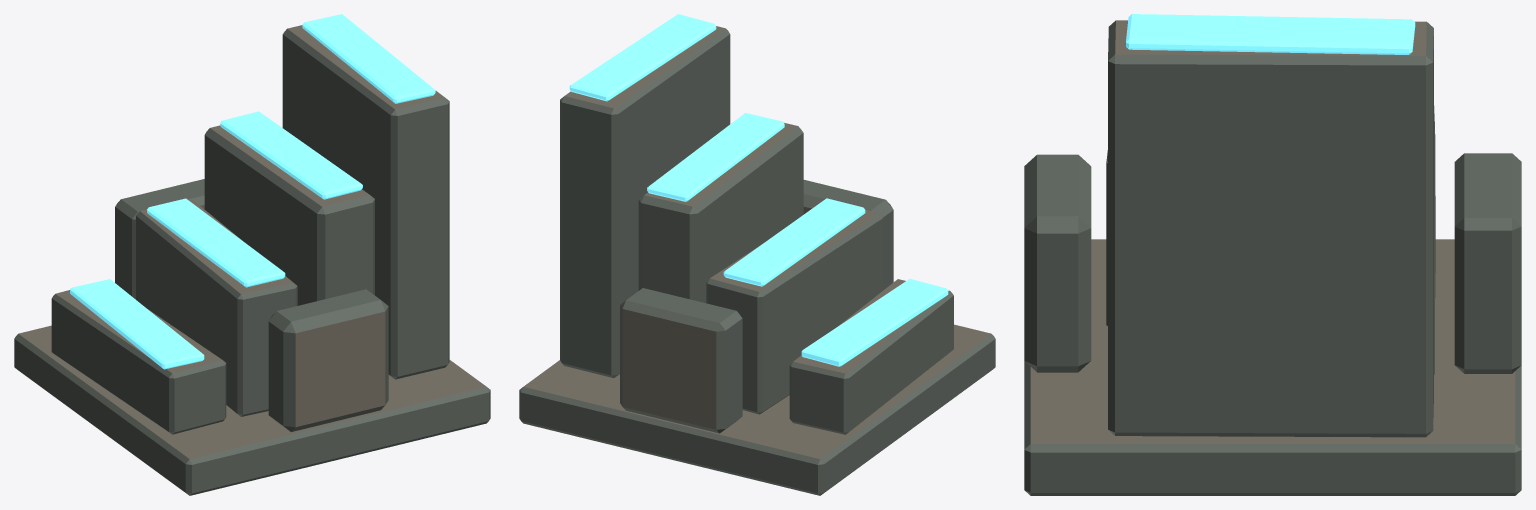
The model's file is R4X_ModuleAmplifier_LOD1.fbx.
3 renders of one model, left to right at view 1: azimuth 30°, elevation 25°; view 2: azimuth 150°, elevation 25°; view 3: azimuth 270°, elevation 25°, orthographic. The views are drawn at different scales.
Visible parts, largest first — view 1: R4X_ModuleAmplifier_LOD1; view 2: R4X_ModuleAmplifier_LOD1; view 3: R4X_ModuleAmplifier_LOD1.
Part boxes in pixels (x1=…): R4X_ModuleAmplifier_LOD1: x1=14, y1=14, x2=490, y2=495; R4X_ModuleAmplifier_LOD1: x1=519, y1=14, x2=995, y2=495; R4X_ModuleAmplifier_LOD1: x1=1024, y1=14, x2=1521, y2=495.
Bounding box in the file's own units: 0.52 × 0.512 × 0.52.
